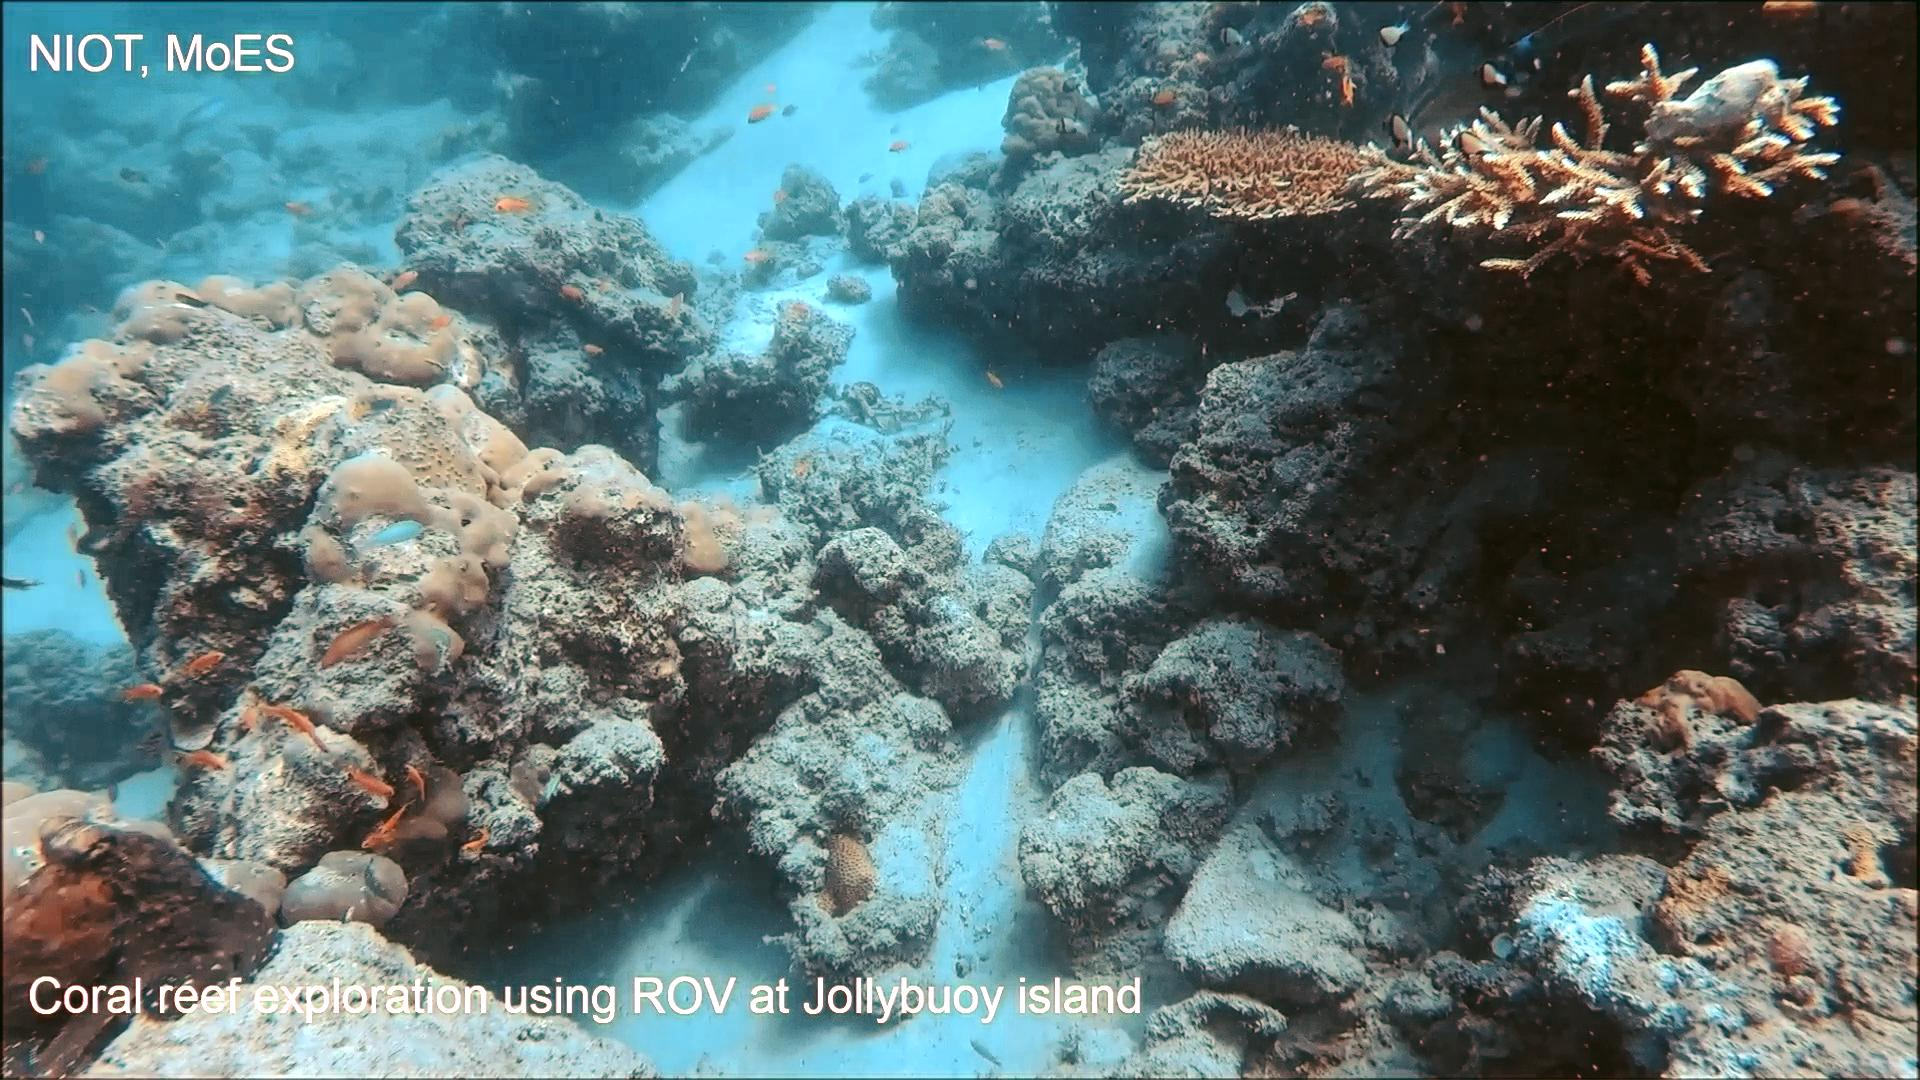Porites-Porites pukoensis: (291, 255, 575, 679)
